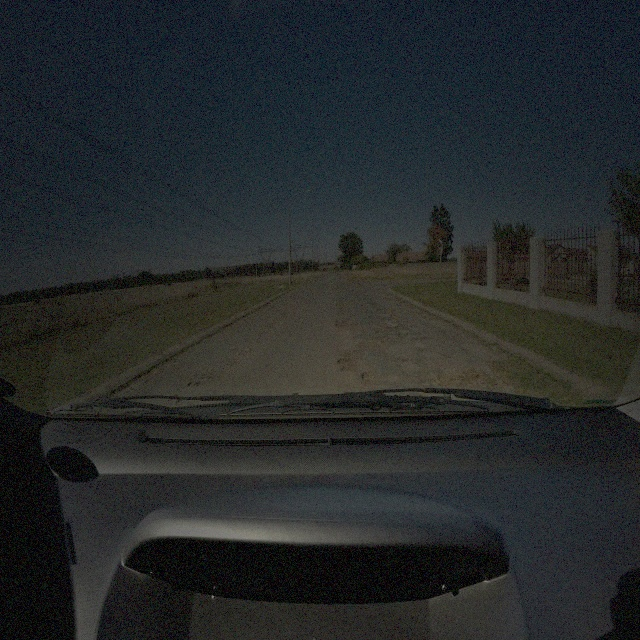pothole: (436, 367, 496, 394), (380, 304, 403, 320), (337, 317, 357, 332), (335, 356, 358, 369), (358, 339, 383, 350), (362, 373, 374, 385), (234, 346, 249, 355), (384, 324, 397, 334), (282, 310, 289, 318)
